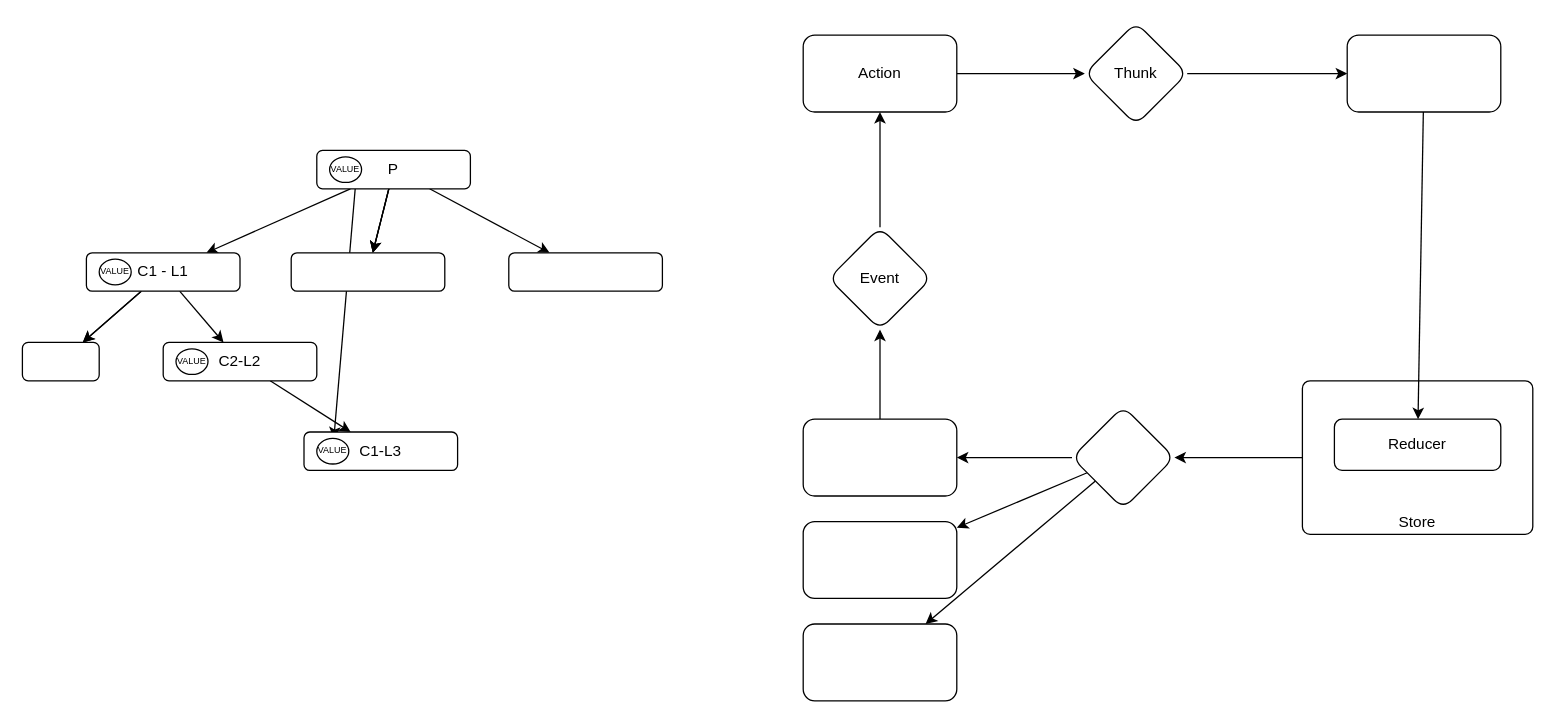
This 1555x723 diagram has some shape labels left out. Here are the shapes that lost their labels. From the top down, the centre of each, then its label:
At (x=1423, y=73): "Middleware / Thunk".
At (x=367, y=271): "C2-L1".
At (x=585, y=271): "C3-L1".
At (x=60, y=361): "C1 - L2".
At (x=879, y=457): "Component".
At (x=1122, y=457): "Provider".
